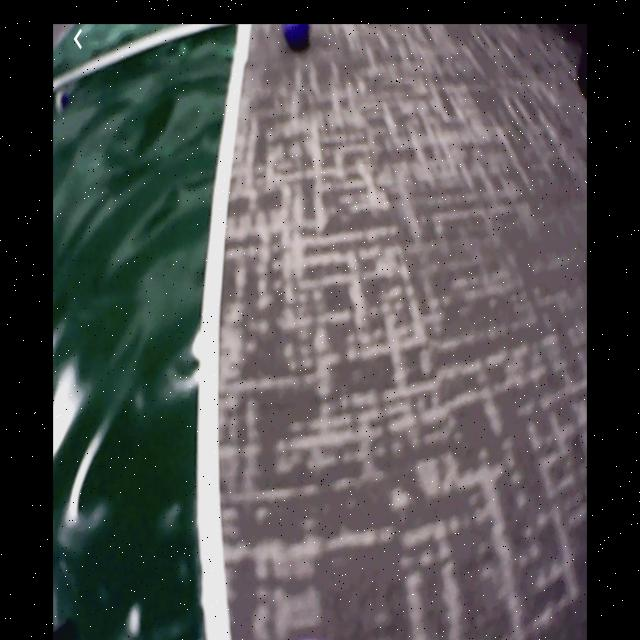ball: (285, 25, 312, 51)
